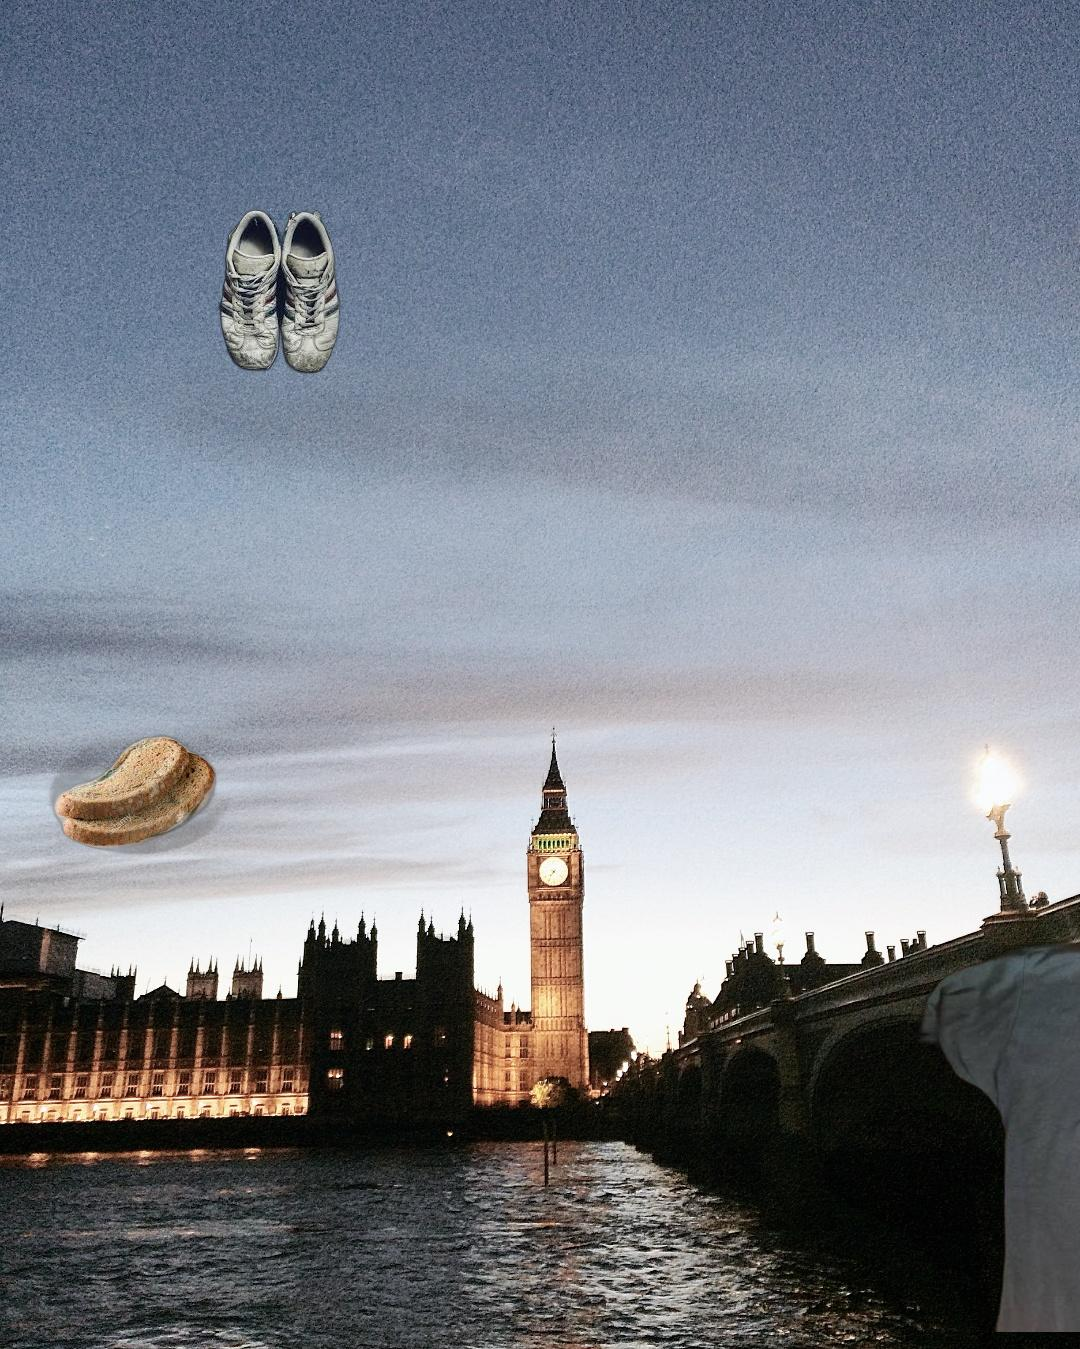biological: (41, 711, 233, 856)
clothes: (916, 932, 1080, 1332)
shoes: (216, 205, 343, 376)
